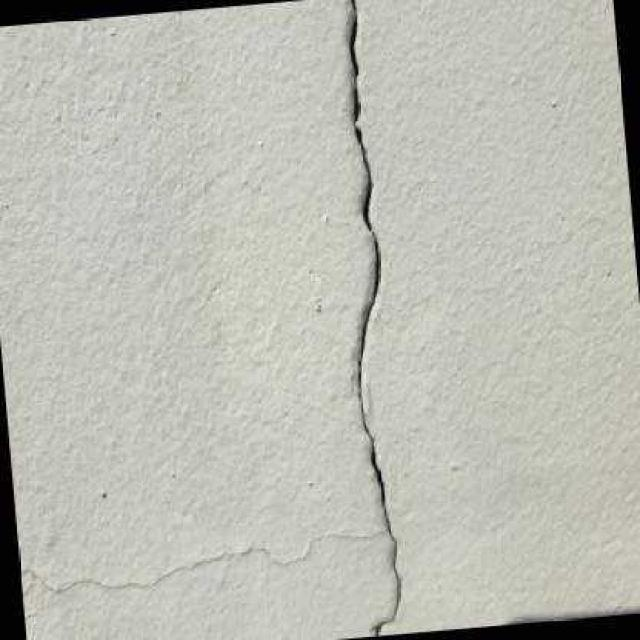D00: (349, 0, 401, 636)
